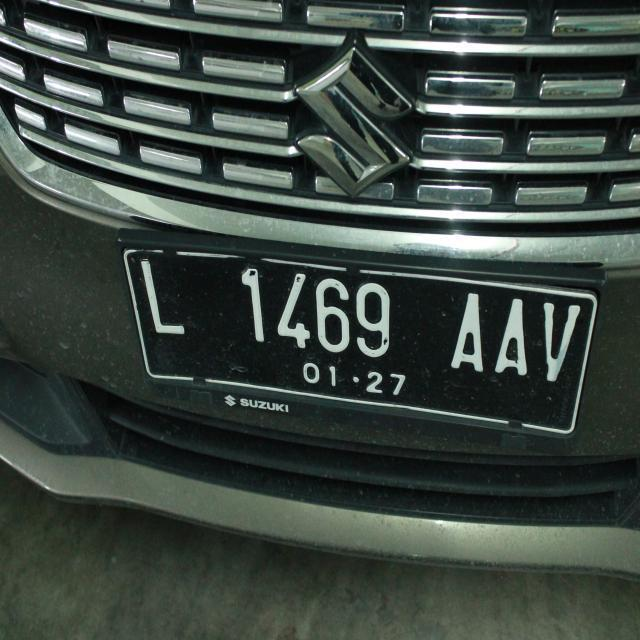1: (226, 255, 278, 362)
4: (271, 260, 306, 346)
6: (311, 272, 354, 353)
9: (347, 270, 392, 376)
A: (445, 282, 492, 376), (491, 286, 531, 389)
L: (129, 244, 189, 358)
V: (532, 288, 582, 402)
